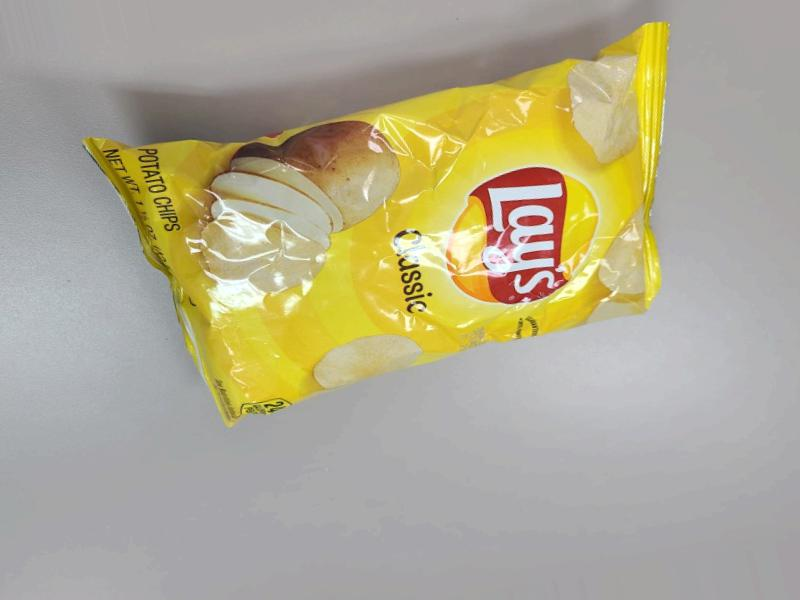lays: (186, 41, 682, 440)
